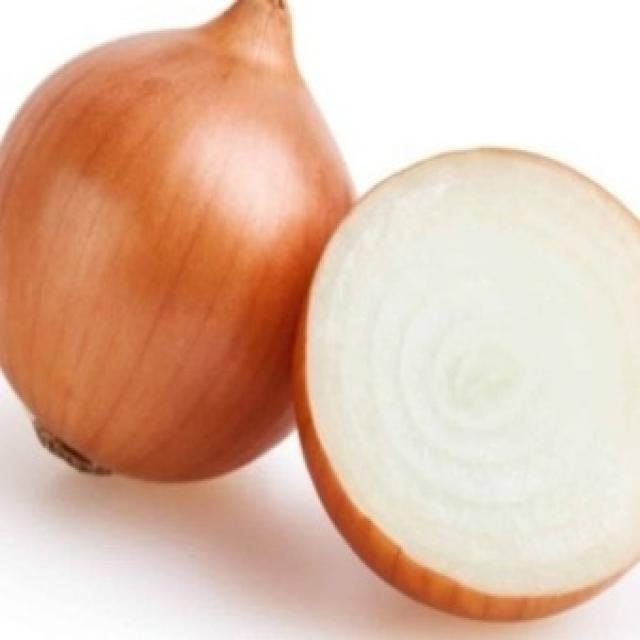Onion: (3, 0, 358, 483), (292, 144, 640, 618)
